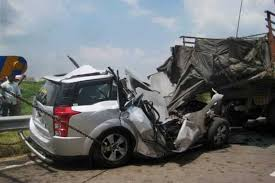accident: (34, 78, 264, 164)
